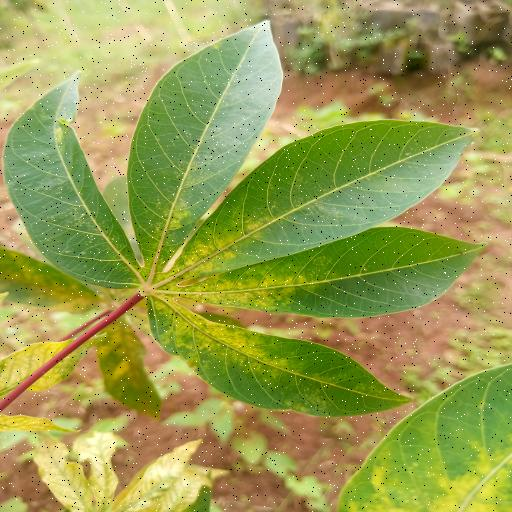Cassava_Mosaic: (0, 19, 474, 419)
